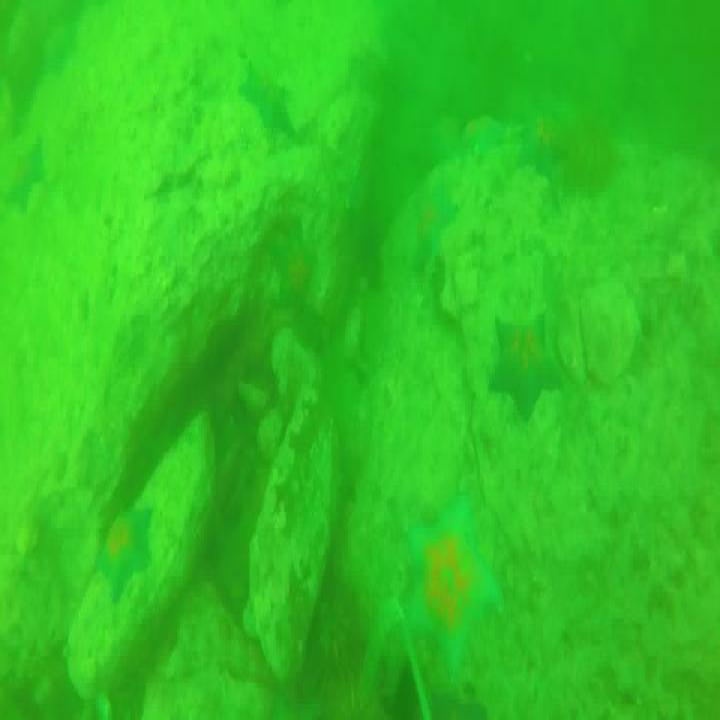holothurian: (312, 583, 361, 674)
starfish: (411, 498, 503, 682), (489, 310, 565, 422), (96, 505, 150, 606), (242, 66, 297, 138), (414, 180, 451, 283), (10, 137, 43, 201), (524, 121, 557, 183), (460, 116, 516, 151)
